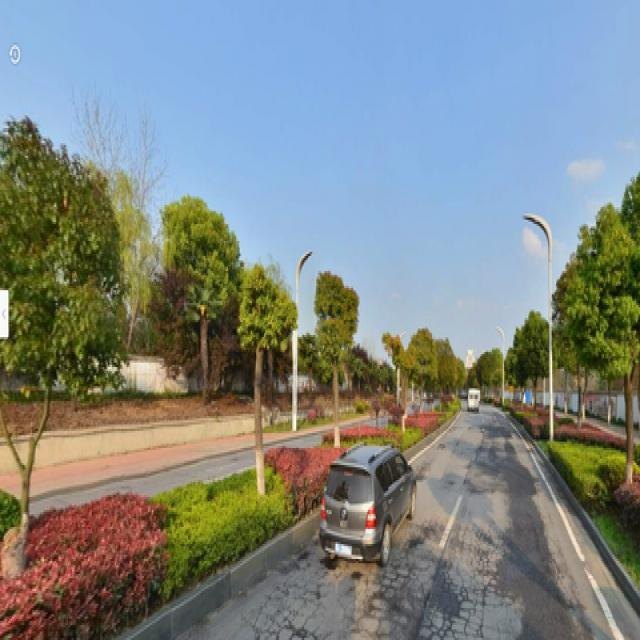cinn: (580, 222, 639, 459), (247, 252, 284, 488), (313, 286, 356, 448)
